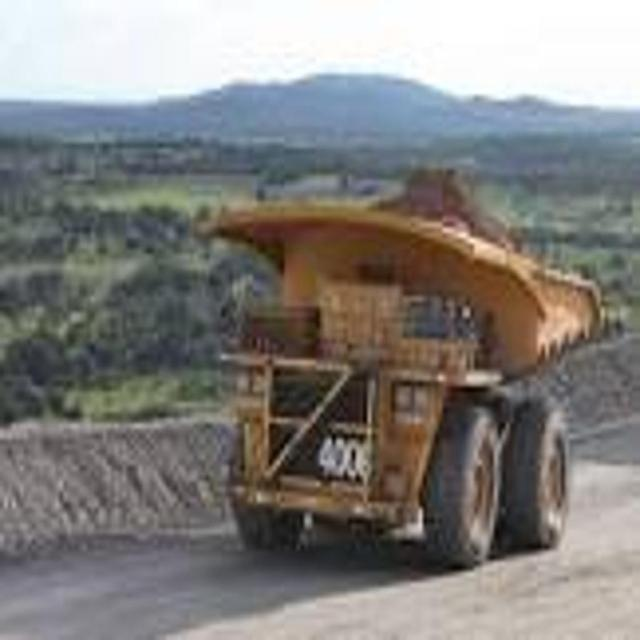dump_truck: (212, 156, 604, 594)
